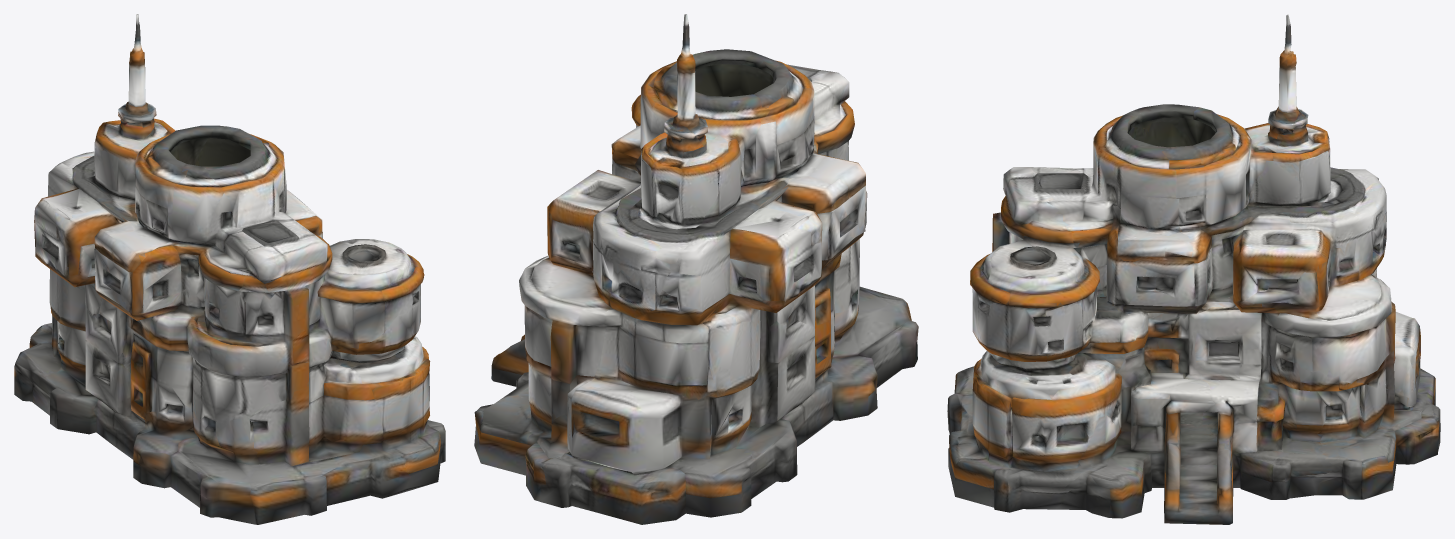
The model's file is habStack.glb.
3 views of the same model, side by side, from view 1: azimuth 30°, elevation 25°; view 2: azimuth 150°, elevation 25°; view 3: azimuth 270°, elevation 25° (orthographic). The views are drawn at different scales.
Parts seen in each view (by area): view 1: tripo_node_4facc5ef-bc6e-4a0c-9102-e0cc3ce64ad4; view 2: tripo_node_4facc5ef-bc6e-4a0c-9102-e0cc3ce64ad4; view 3: tripo_node_4facc5ef-bc6e-4a0c-9102-e0cc3ce64ad4.
Part boxes in pixels (x1,y1,x2,y2): tripo_node_4facc5ef-bc6e-4a0c-9102-e0cc3ce64ad4: (14, 14, 445, 524); tripo_node_4facc5ef-bc6e-4a0c-9102-e0cc3ce64ad4: (474, 14, 918, 524); tripo_node_4facc5ef-bc6e-4a0c-9102-e0cc3ce64ad4: (947, 14, 1440, 524).
Bounding box in the file's own units: 0.7252 × 0.9143 × 0.9992.
1 material, 1 textured.
